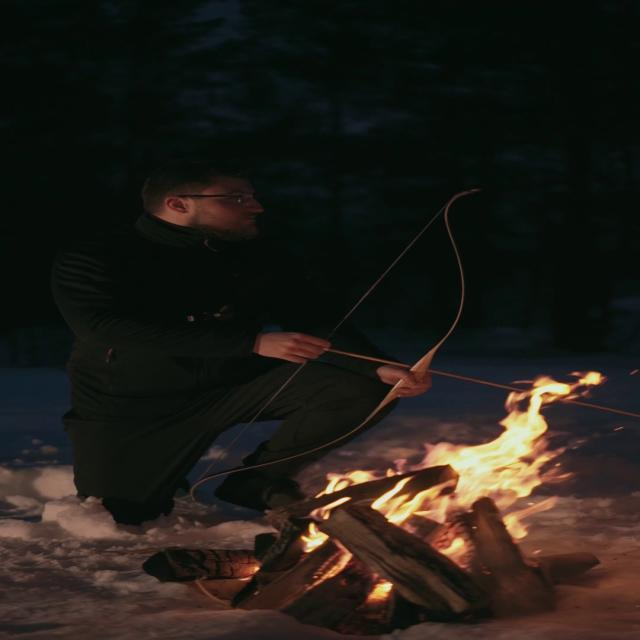Fire: (312, 366, 611, 576)
